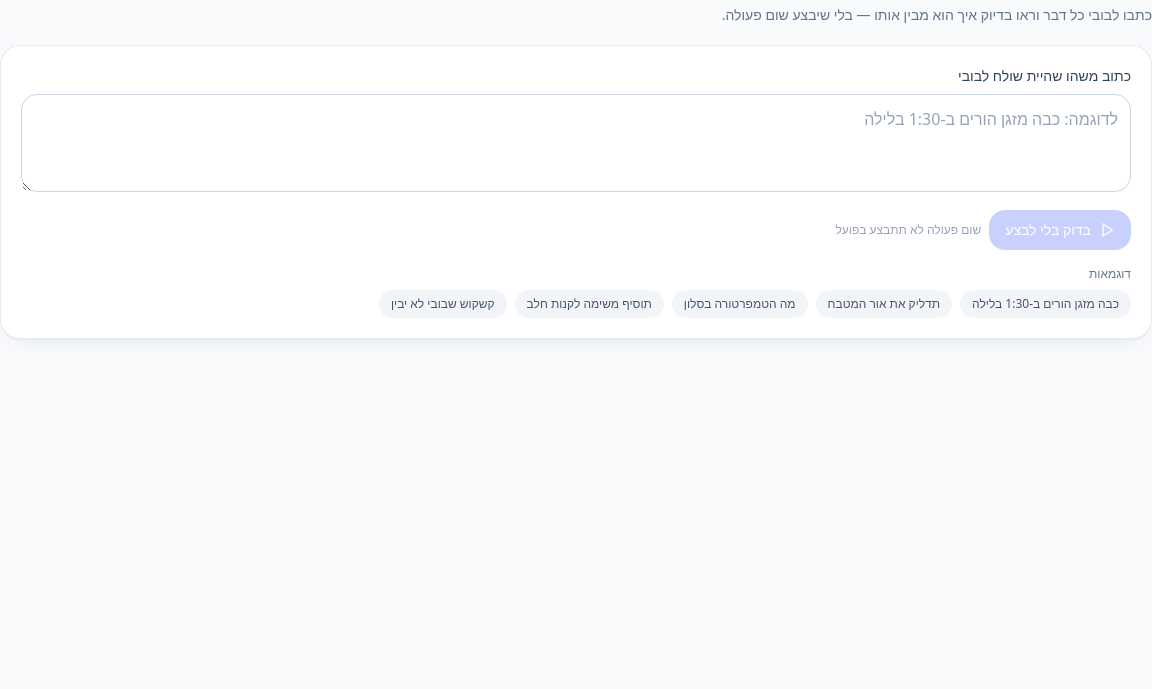
Test case: TestCenterPage › builds the pipeline from the bridge fields
Step 1. Type "כבה מזגן הורים ב-1:30 בלילה" into the text box labelled "כתוב משהו שהיית שולח לבובי" → (576, 143), box [21, 94, 1131, 192]
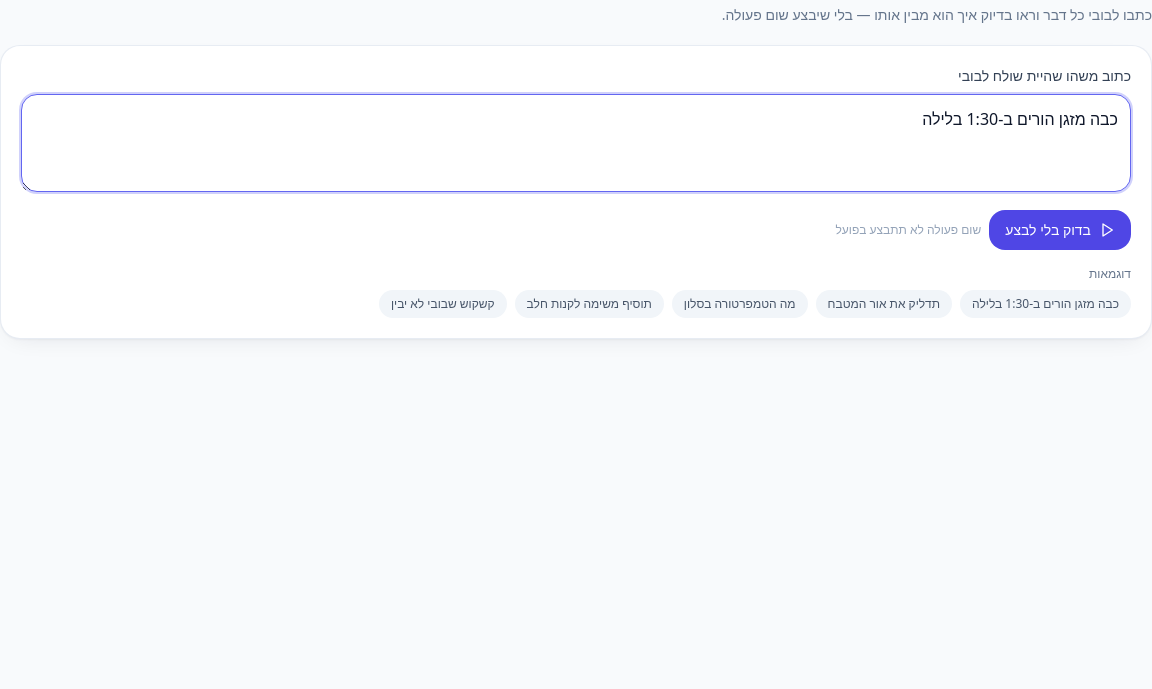
Step 2. Click the button "בדוק בלי לבצע" → (1060, 230), box [989, 210, 1131, 250]
(page scrolled)
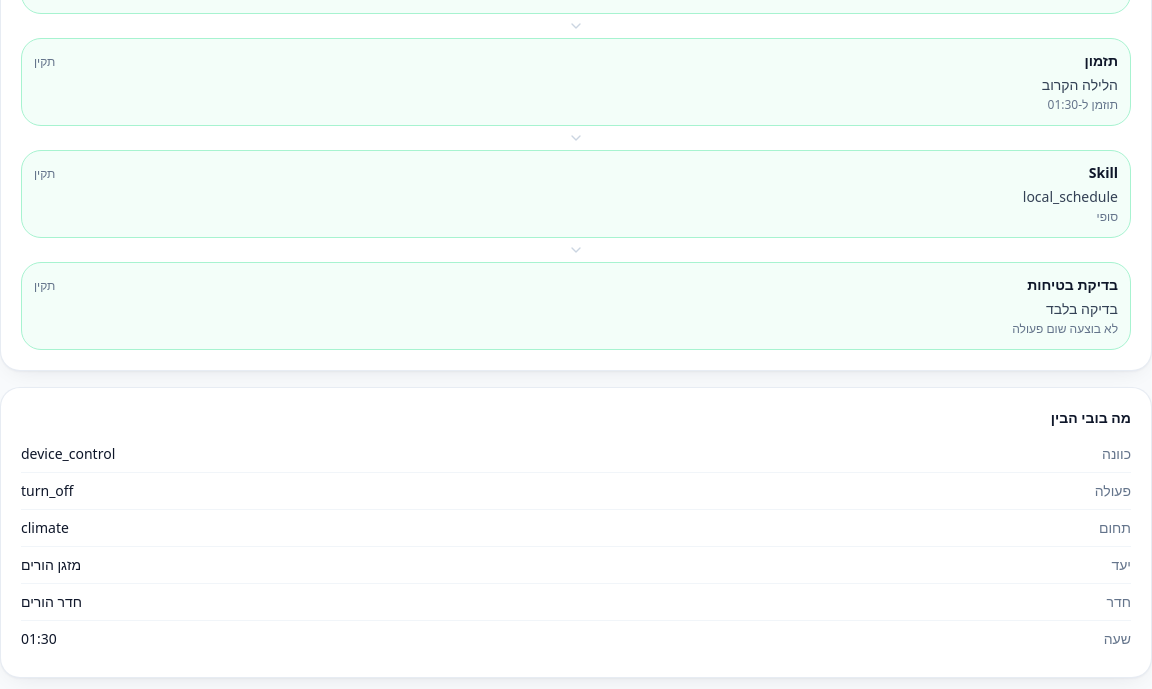
Now the text "תזמון" is shown, box [1084, 51, 1118, 71]
Now the text "Skill" is shown, box [1089, 163, 1118, 183]
Now the text "בדיקת בטיחות" is shown, box [1027, 275, 1118, 295]
